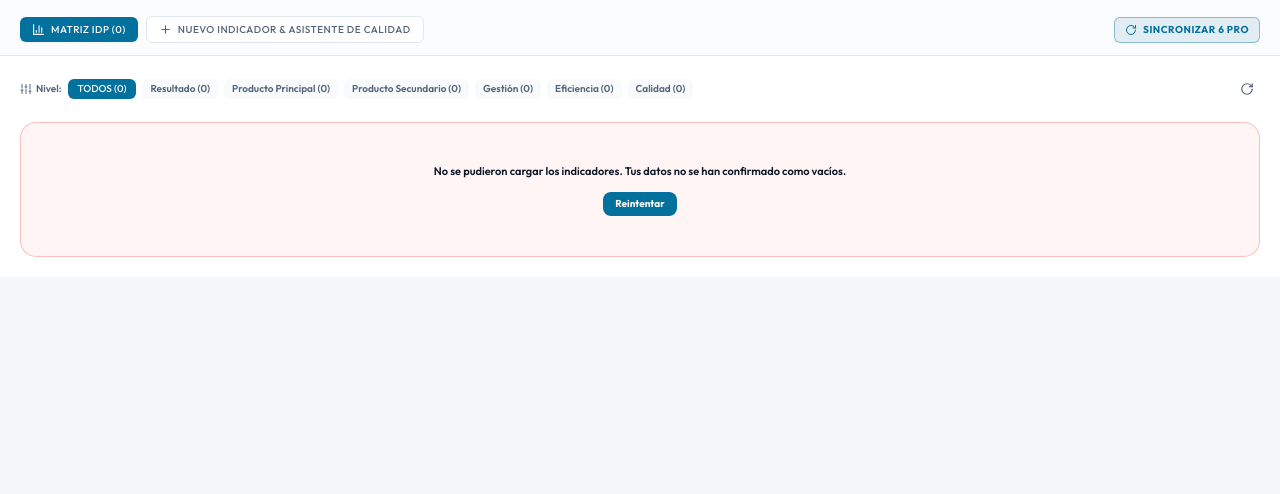
it: ProjectIndicatorsDrawer loading recovery › does not report an empty list after a failed request and can recover by retrying
Expected: the message shows "No se pudieron cargar los indicadores", [434,164,846,178]
Expected: the text "No hay indicadores en este nivel" is not shown
Click the button "Reintentar" at (640, 204), box [603,192,677,216]
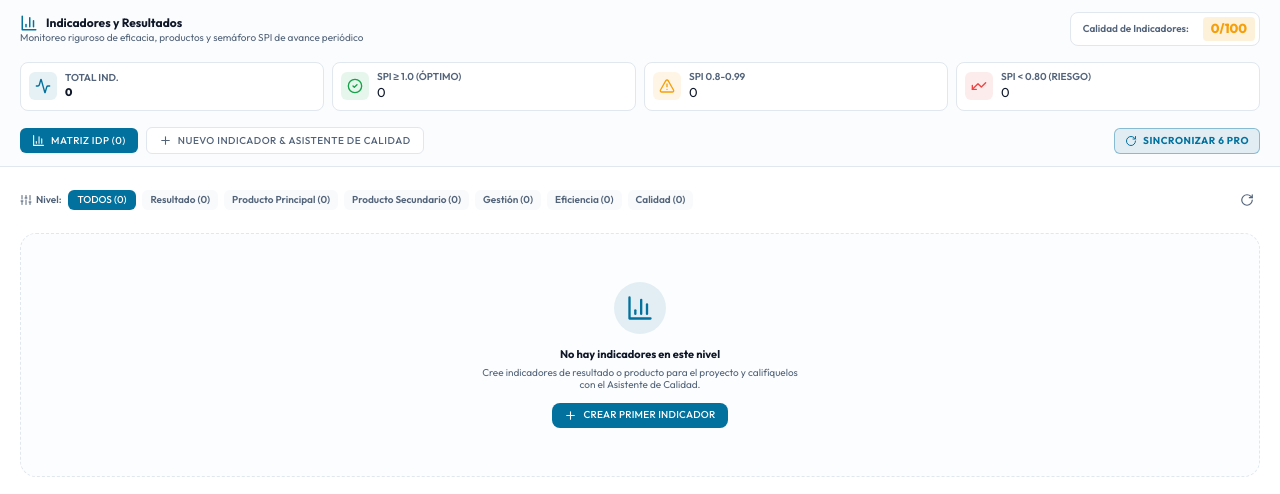
Now the heading "No hay indicadores en este nivel" is shown, box [560,347,720,361]
